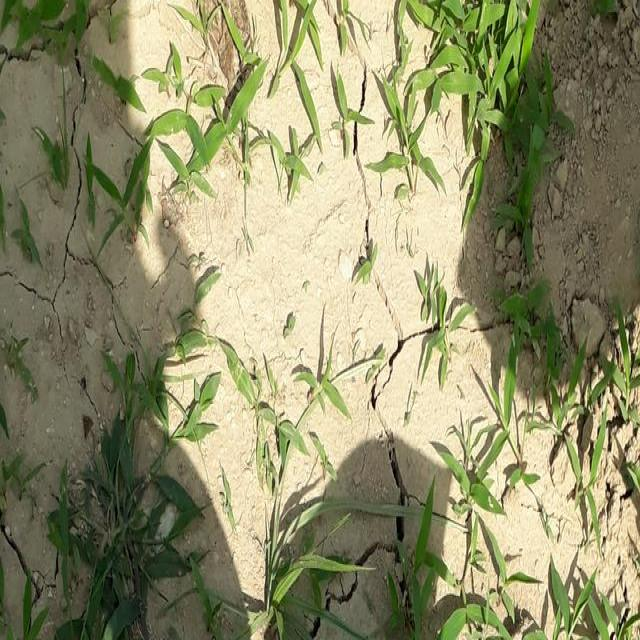weed: (386, 0, 580, 411), (263, 487, 640, 640), (40, 351, 191, 640), (124, 32, 311, 199)
